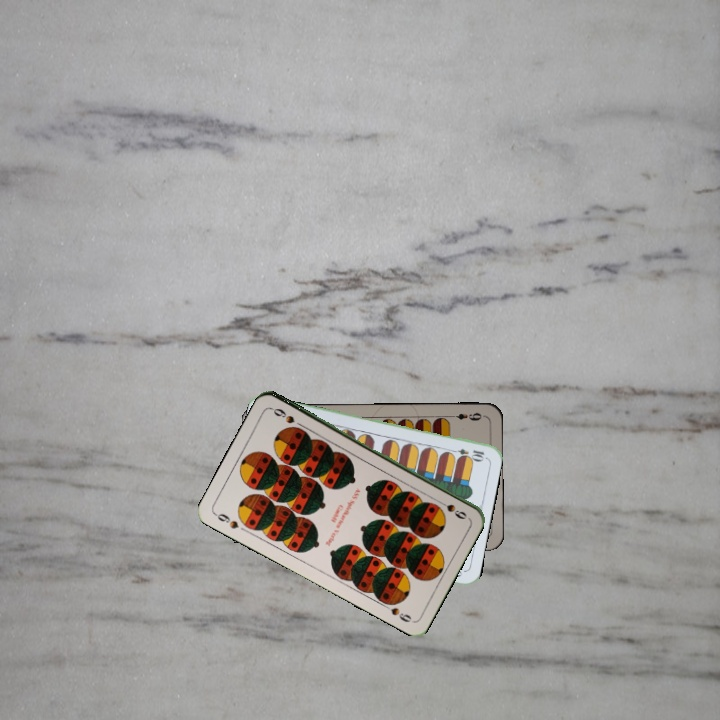E10: (446, 444, 487, 462)
E9: (445, 409, 484, 423)
S9: (433, 496, 469, 522), (210, 509, 241, 532)
